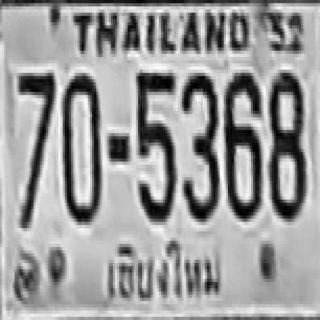N00: (61, 71, 100, 220)
N03: (181, 70, 219, 219)
N05: (136, 70, 176, 220)
N06: (225, 70, 261, 219)
N07: (17, 70, 54, 225)
N08: (269, 70, 304, 219)
P11: (99, 236, 226, 306)
